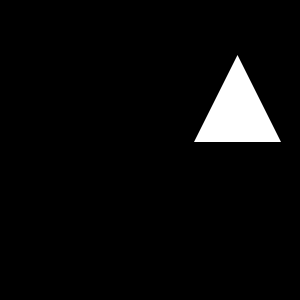triangle: (194, 55, 281, 142)
